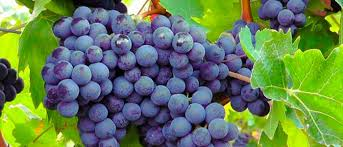Black grapes: (40, 4, 269, 147)
